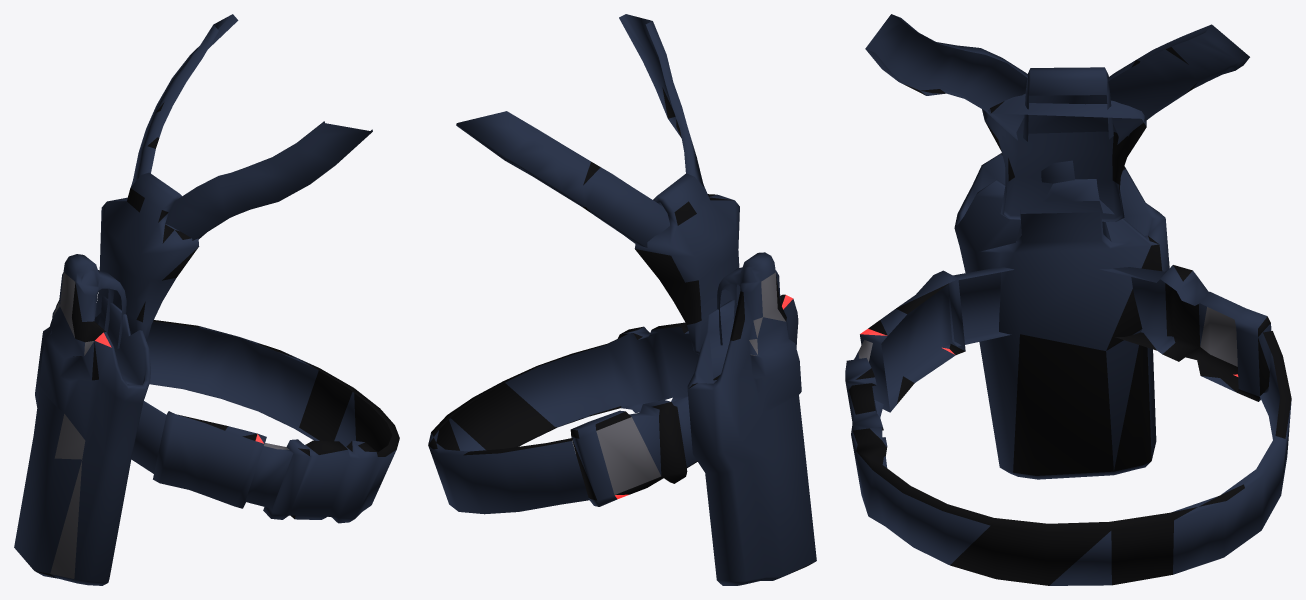
The model's file is prota.holster.glb.
3 renders of one model, left to right at view 1: azimuth 30°, elevation 25°; view 2: azimuth 150°, elevation 25°; view 3: azimuth 270°, elevation 25°, orthographic. The views are drawn at different scales.
Parts seen in each view (by area): view 1: Prota_Holster; view 2: Prota_Holster; view 3: Prota_Holster.
Part boxes in pixels (x1,y1,x2,y2): Prota_Holster: (14,14,399,585); Prota_Holster: (428,14,816,585); Prota_Holster: (845,14,1291,585).
Bounding box in the file's own units: 0.2493 × 0.3149 × 0.2247.
